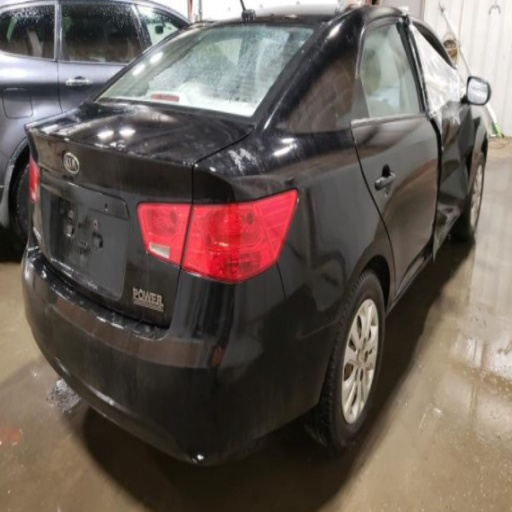dent: (429, 89, 485, 264), (299, 176, 352, 329), (383, 158, 438, 297), (232, 171, 284, 200)
